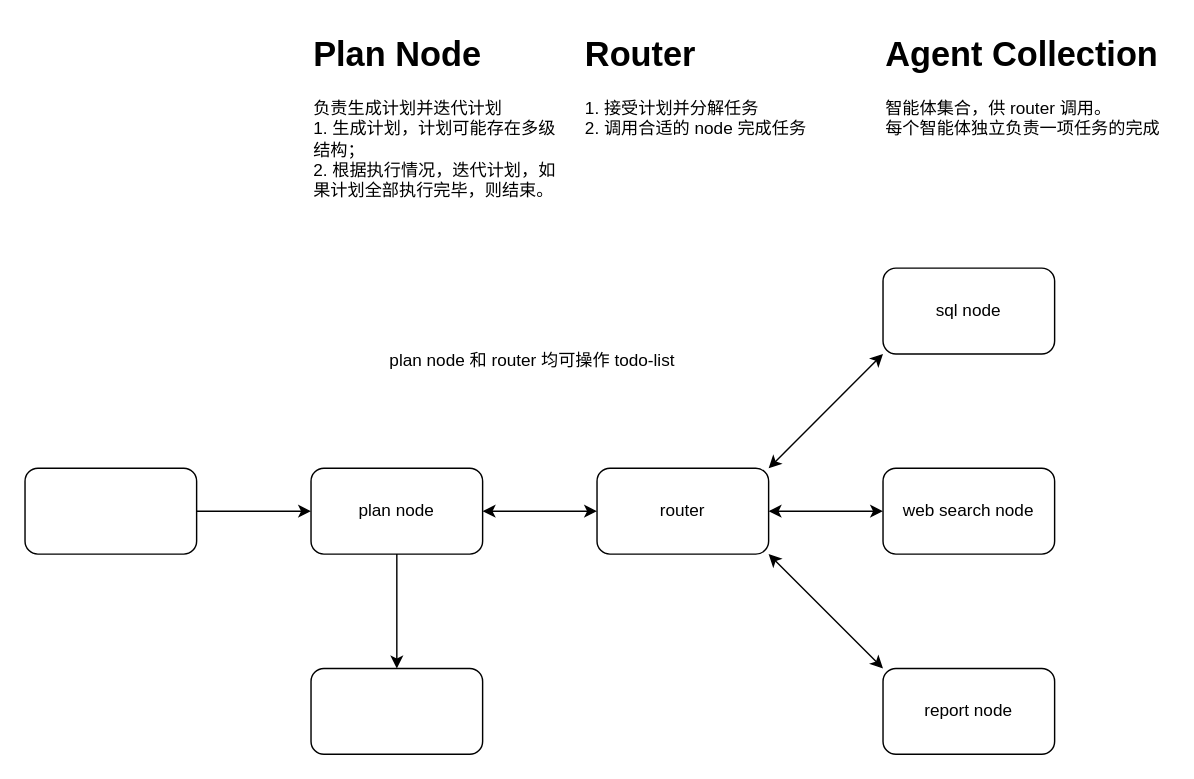
This 1194x779 diagram has some shape labels left out. The centre of each missing label's shape, as x and y in pixels:
"END" belongs at [396,710].
"START" belongs at [110,510].
